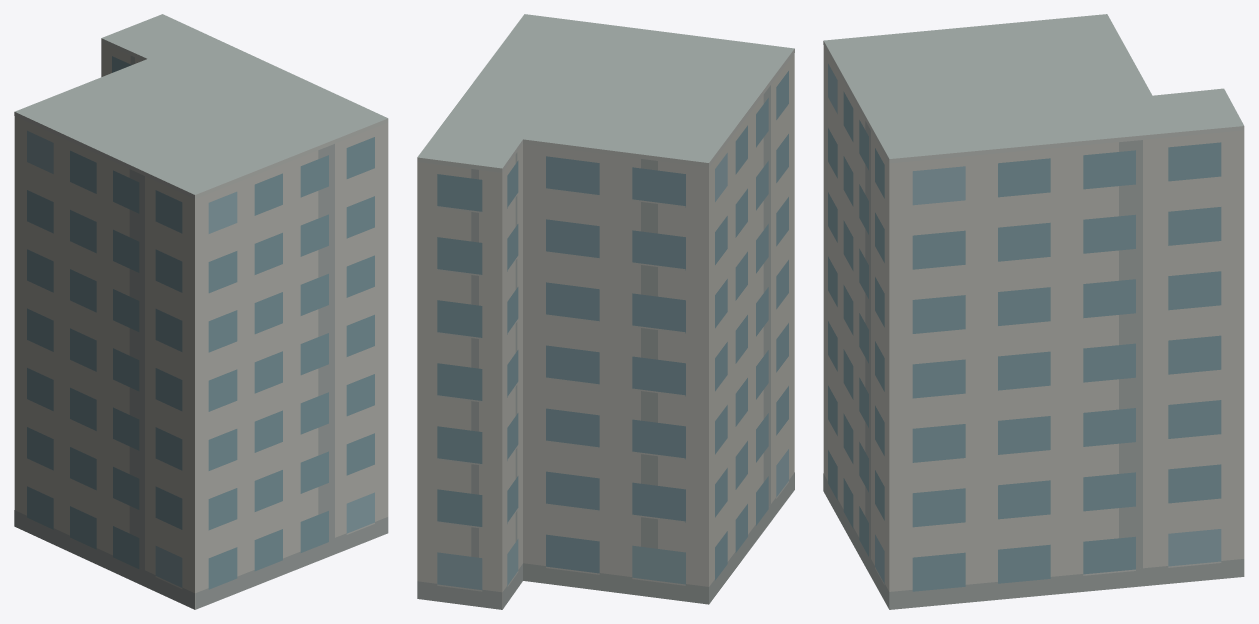
Rendered from survey-upis-32809807.glb.
The picture shows the model from 3 angles, left to right: view 1: azimuth 30°, elevation 25°; view 2: azimuth 150°, elevation 25°; view 3: azimuth 270°, elevation 25°; orthographic projection. The views are drawn at different scales.
Visible parts, largest first — view 1: survey-upis-32809807.tmp; view 2: survey-upis-32809807.tmp; view 3: survey-upis-32809807.tmp.
Part boxes in pixels (x1,y1,x2,y2): survey-upis-32809807.tmp: (14, 14, 388, 609); survey-upis-32809807.tmp: (417, 14, 794, 609); survey-upis-32809807.tmp: (823, 14, 1244, 609).
Bounding box in the file's own units: 16.75 × 24.25 × 20.53.
